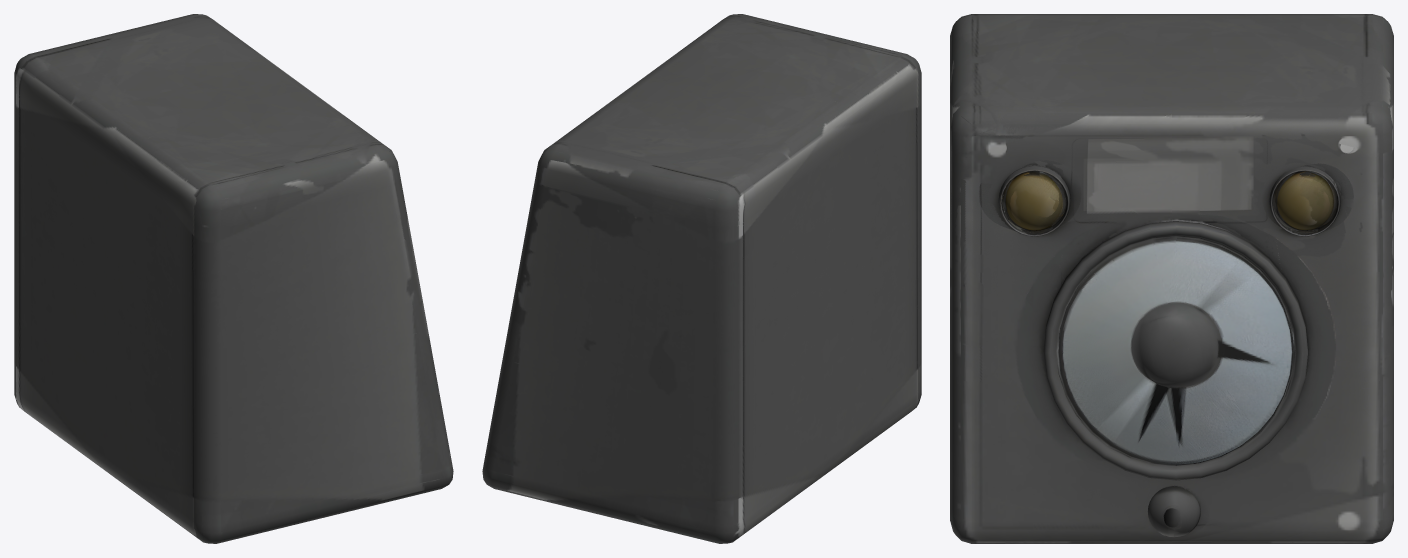
The model's file is 2-speaker-Sentinel.glb.
3 views of the same model, side by side, from view 1: azimuth 30°, elevation 25°; view 2: azimuth 150°, elevation 25°; view 3: azimuth 270°, elevation 25° (orthographic). The views are drawn at different scales.
Size of the model in its own units: 1.57 by 2 by 2.
1 material, 1 textured.
